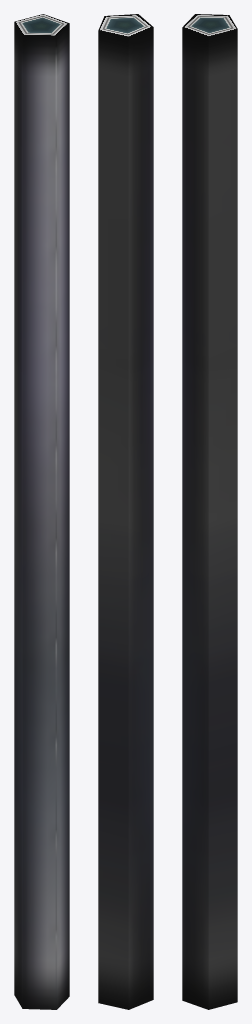
3 views of the same model, side by side, from view 1: azimuth 90°, elevation 25°; view 2: azimuth 210°, elevation 25°; view 3: azimuth 270°, elevation 25° (orthographic).
Parts seen in each view (by area): view 1: Cylinder12; view 2: Cylinder12; view 3: Cylinder12.
Boxes of the visible parts, x1,y1,x2,y2 form: Cylinder12: (14,14,69,1009); Cylinder12: (98,14,153,1009); Cylinder12: (182,14,237,1009).
Size of the model in its own units: 48.78 by 971 by 50.15.
1 material, 1 textured.
